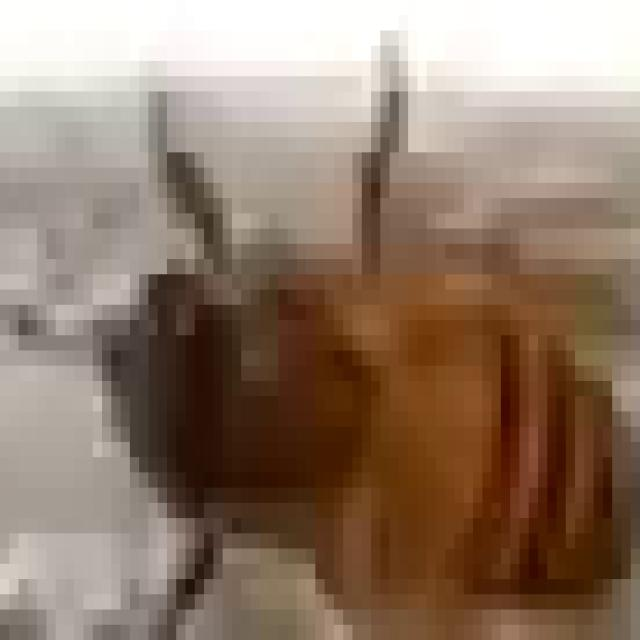honeybee: (71, 107, 618, 598)
